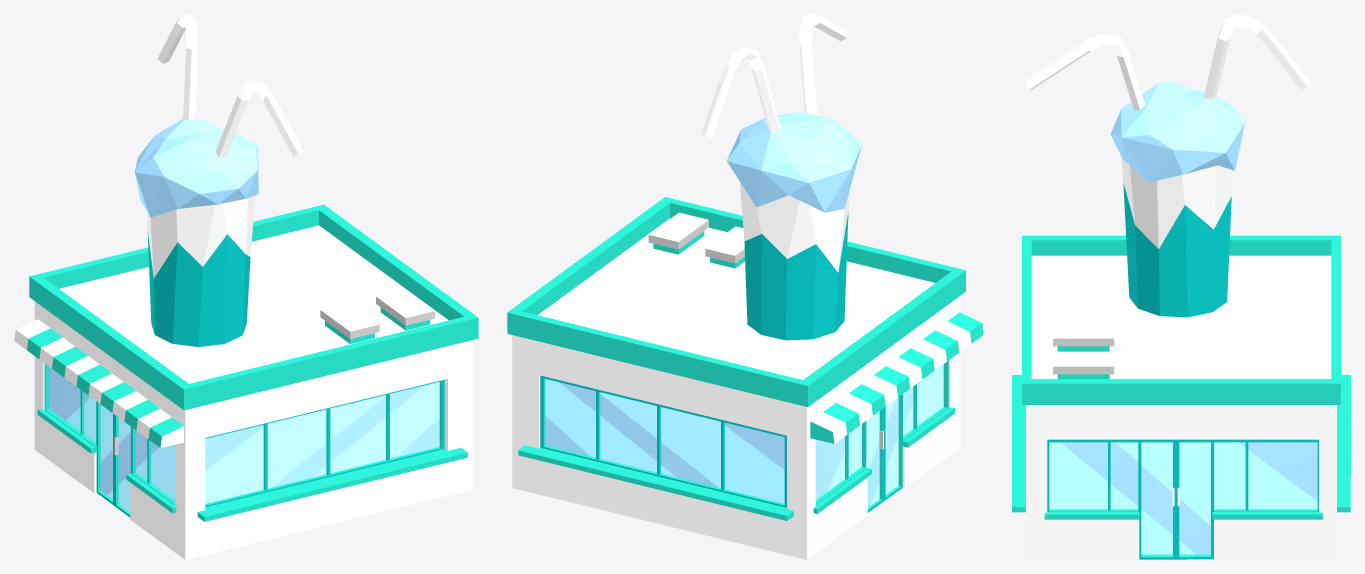
File: tile_for_home_1x1.006 (17) bubbletea.glb
The picture shows the model from 3 angles, left to right: view 1: azimuth 30°, elevation 25°; view 2: azimuth 150°, elevation 25°; view 3: azimuth 270°, elevation 25°; orthographic projection. The views are drawn at different scales.
Parts seen in each view (by area): view 1: snack.007; view 2: snack.007; view 3: snack.007.
Boxes of the visible parts, <box> form: snack.007: <box>14,14,478,559</box>; snack.007: <box>507,14,983,559</box>; snack.007: <box>1012,14,1350,559</box>.
Bounding box in the file's own units: 6.12 × 8.16 × 5.52.
Materials: 1 (1 with a texture image).
